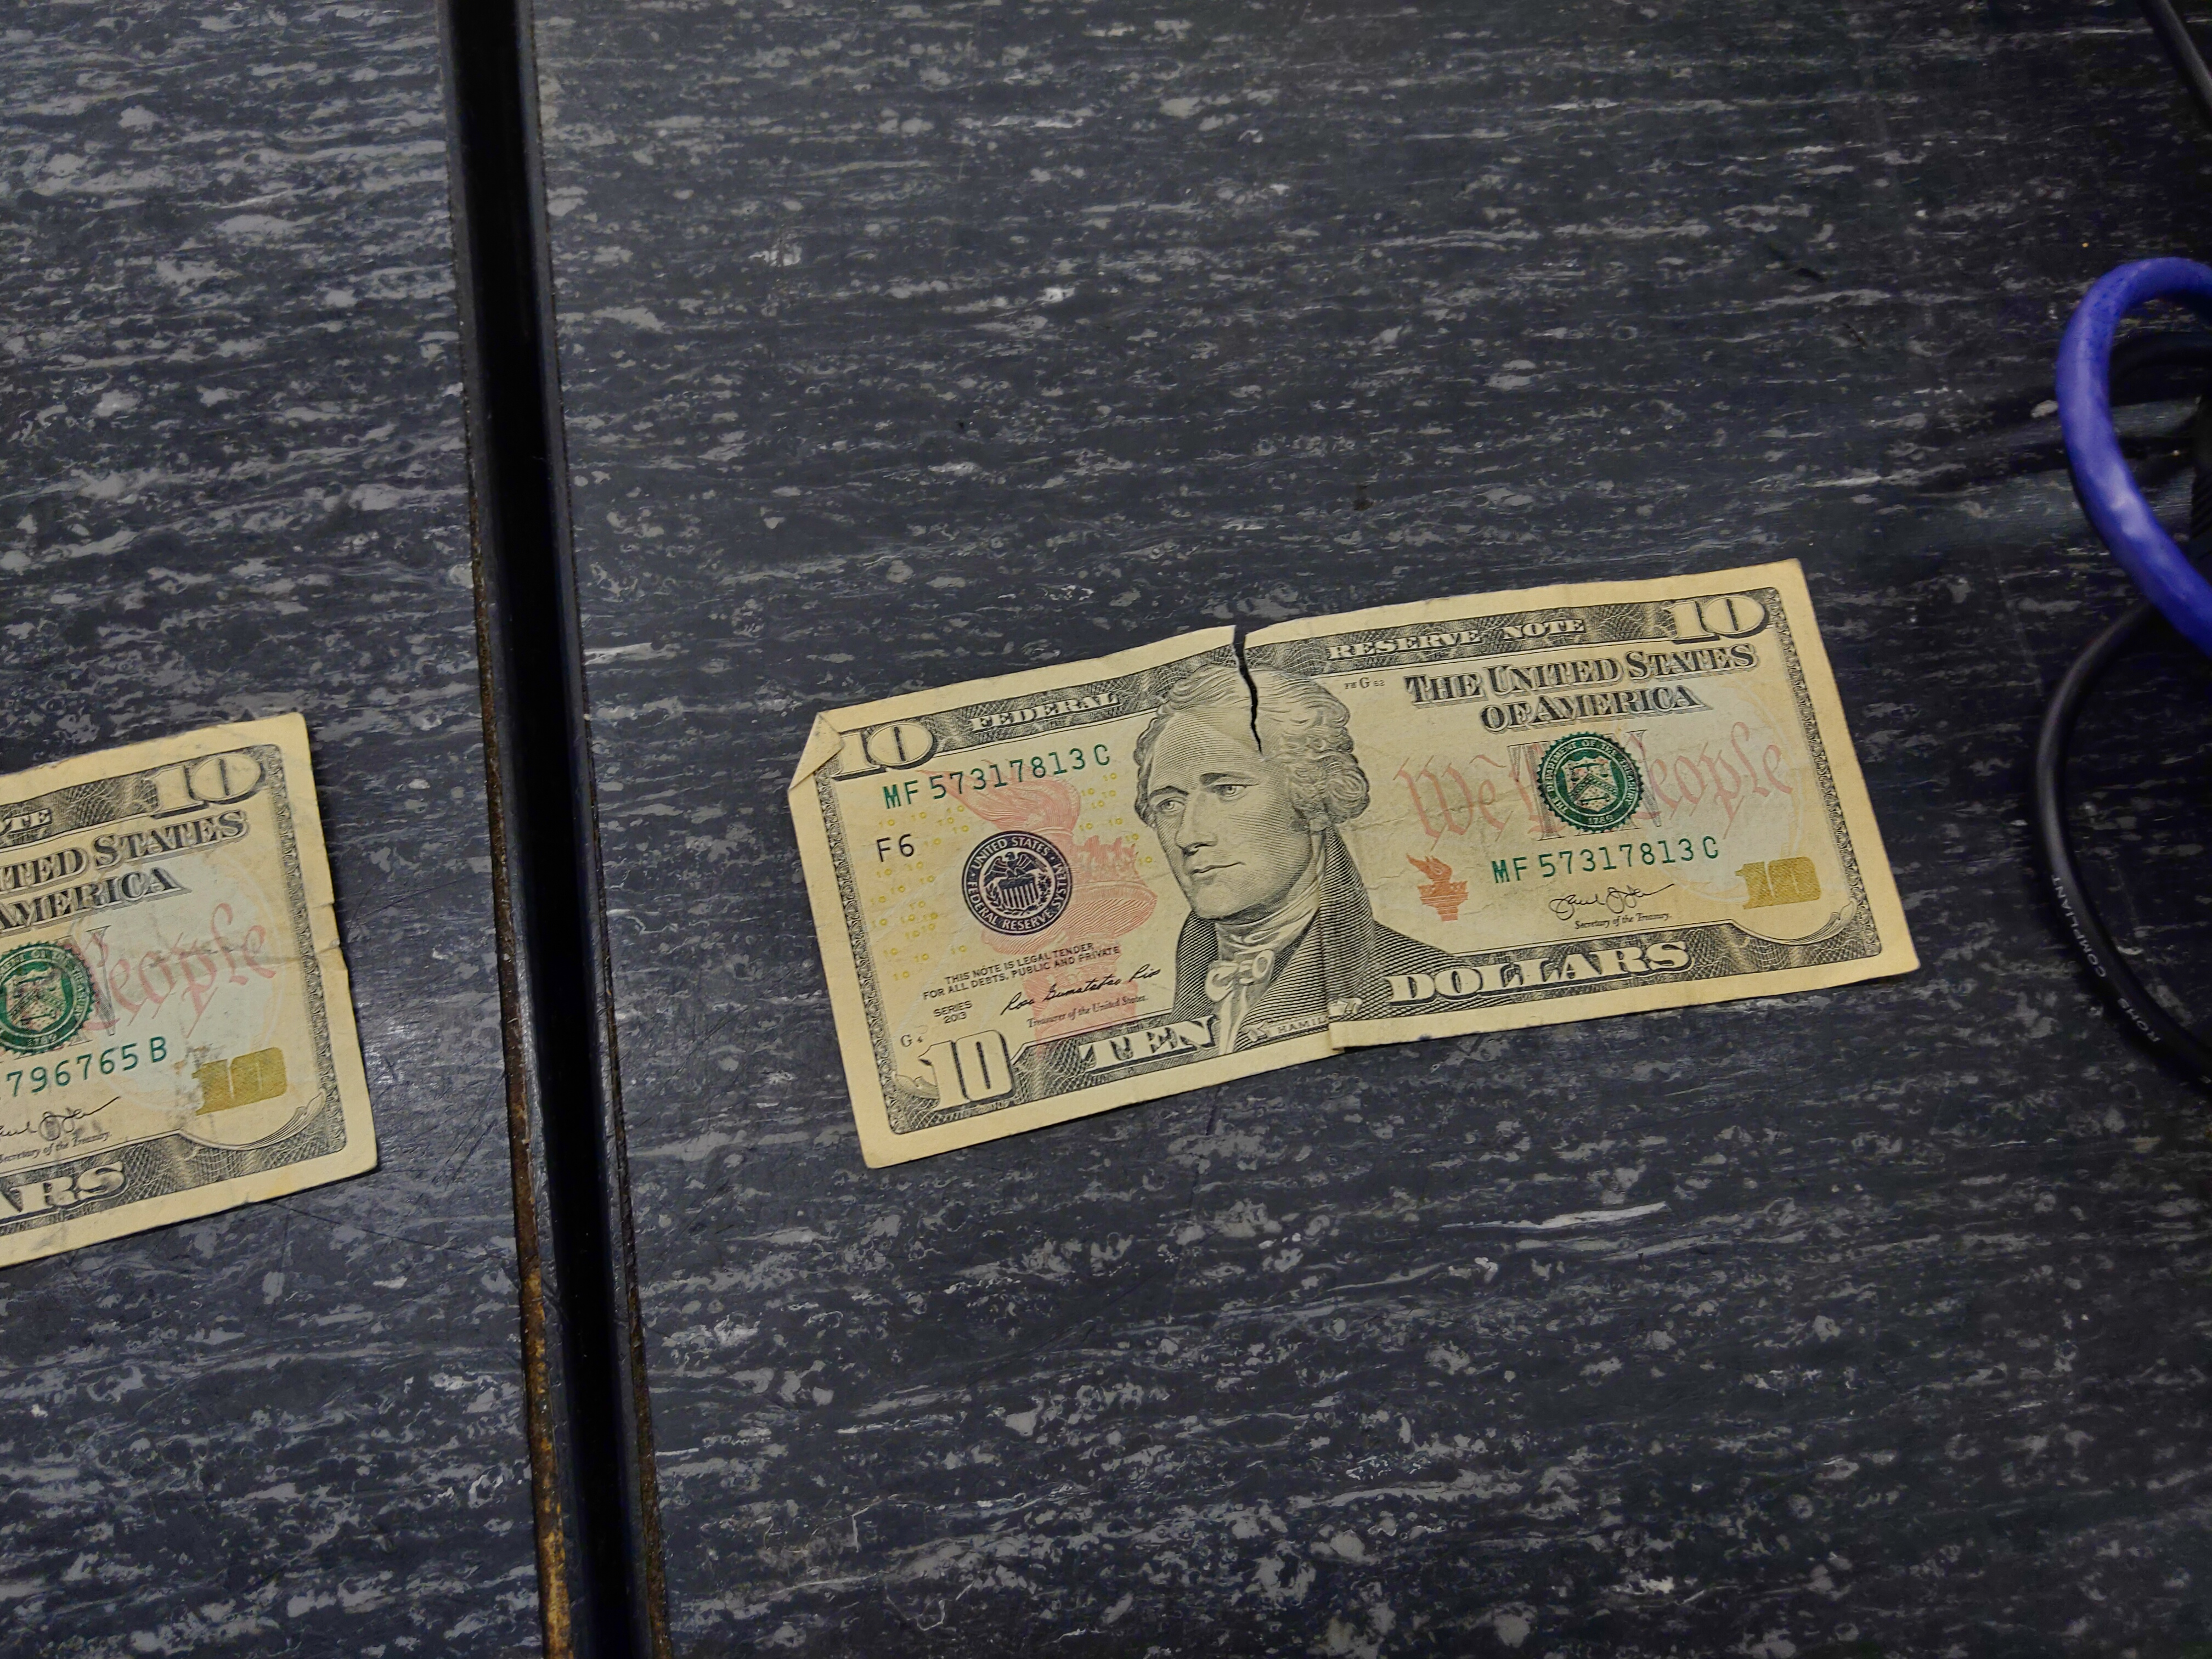TenBill: (789, 558, 1926, 1175), (0, 709, 381, 1263)
